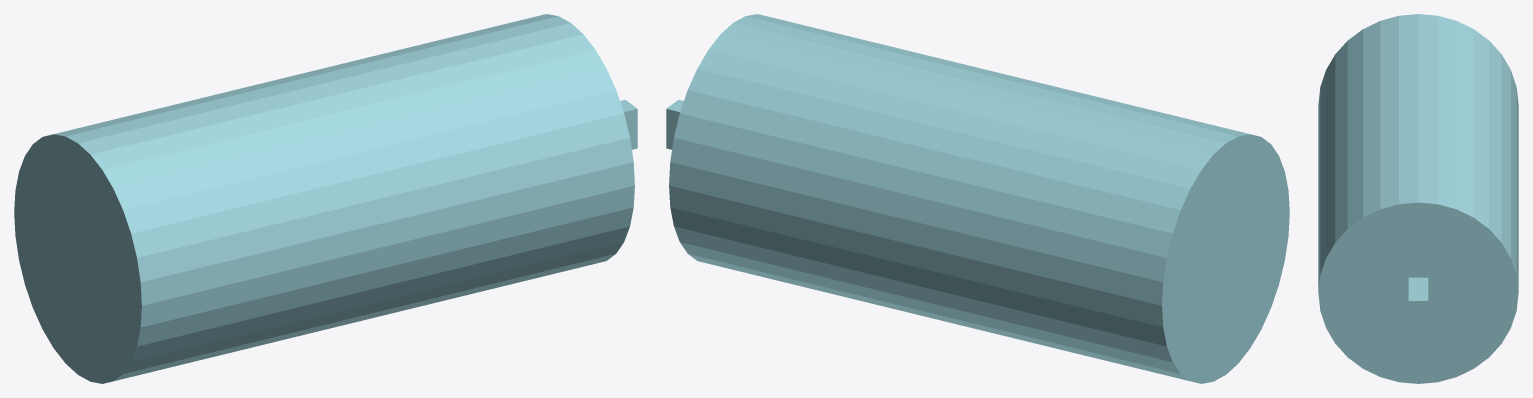
Rendered from cylinder_marker_v4010.obj.
3 renders of one model, left to right at view 1: azimuth 30°, elevation 25°; view 2: azimuth 150°, elevation 25°; view 3: azimuth 270°, elevation 25°, orthographic. The views are drawn at different scales.
Size of the model in its own units: 0.1352 by 0.054 by 0.054.
Materials: 1 (1 with a texture image).
